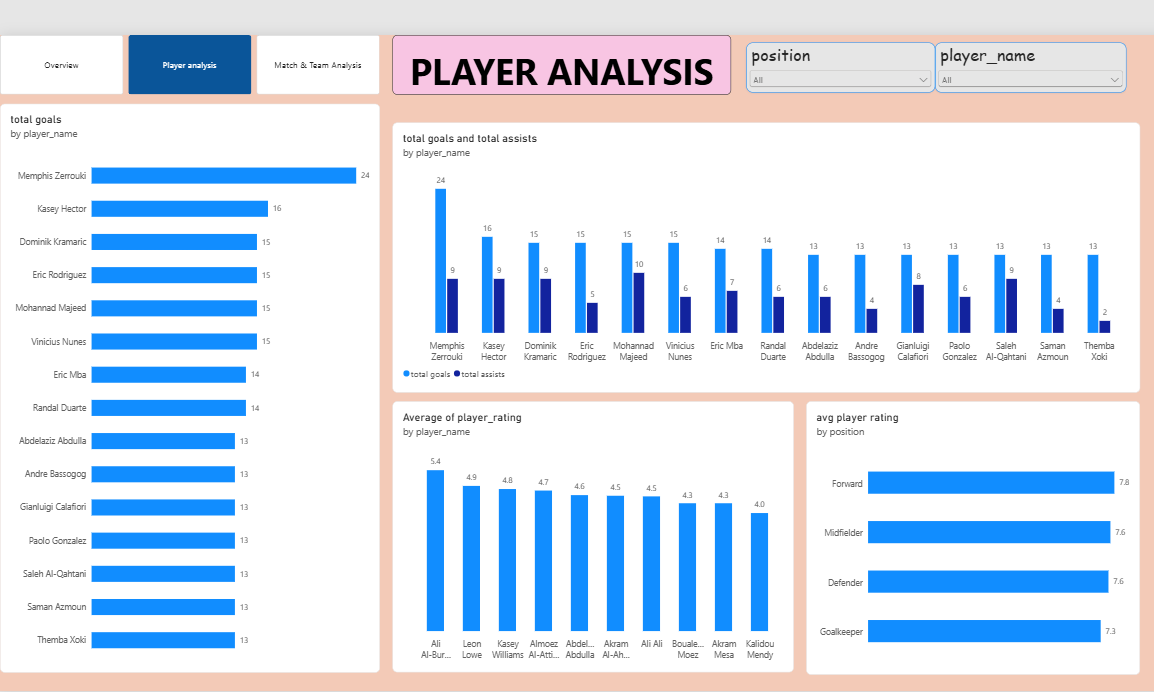

This screenshot's page, from the dashboard's own definition file:
{"tool":"powerbi","page":{"name":"Player analysis","canvas":[1920,1080],"ordinal":1},"visuals":[{"type":"clusteredBarChart","fields":{"Category":["fifa_world_cup players.player_name"],"Y":["fifa_world_cup matches.total goals"]},"box":[0,113.2,625.7,936.5],"z":0},{"type":"clusteredColumnChart","fields":{"Y":["Avg(fifa_world_cup player_match_stats.player_rating)"],"Category":["fifa_world_cup players.player_name"]},"box":[646.3,603.1,660.7,446.7],"z":1},{"type":"clusteredColumnChart","fields":{"Y":["fifa_world_cup matches.total goals","fifa_world_cup matches.total assists"],"Category":["fifa_world_cup players.player_name"]},"box":[646.3,144.1,1230.9,444.6],"z":2},{"type":"barChart","fields":{"Category":["fifa_world_cup players.position"],"Y":["fifa_world_cup matches.avg player rating"]},"box":[1327.6,603.1,549.6,450.8],"z":3},{"type":"textbox","box":[646.3,0,557.8,98.8],"z":4},{"type":"pageNavigator","box":[0,0,625.7,98.8],"z":5},{"type":"slicer","fields":{"Values":["fifa_world_cup players.player_name"]},"box":[1539.6,12.3,314.9,82.3],"z":6},{"type":"slicer","fields":{"Values":["fifa_world_cup players.position"]},"box":[1228.8,12.3,310.8,82.3],"z":8}]}

Visuals, with their boxes on the page's 1920x1080 design canvas (x1, y1, x2, y2). These are canvas units, not pixel positions in the 1154x692 screenshot, which may show the page scaled, cropped or inside an application window:
clusteredBarChart - fifa_world_cup players.player_name x fifa_world_cup matches.total goals: 0/113/626/1050
clusteredColumnChart - Avg(fifa_world_cup player_match_stats.player_rating) x fifa_world_cup players.player_name: 646/603/1307/1050
clusteredColumnChart - fifa_world_cup matches.total goals x fifa_world_cup matches.total assists: 646/144/1877/589
barChart - fifa_world_cup players.position x fifa_world_cup matches.avg player rating: 1328/603/1877/1054
textbox: 646/0/1204/99
pageNavigator: 0/0/626/99
slicer - fifa_world_cup players.player_name: 1540/12/1854/95
slicer - fifa_world_cup players.position: 1229/12/1540/95
